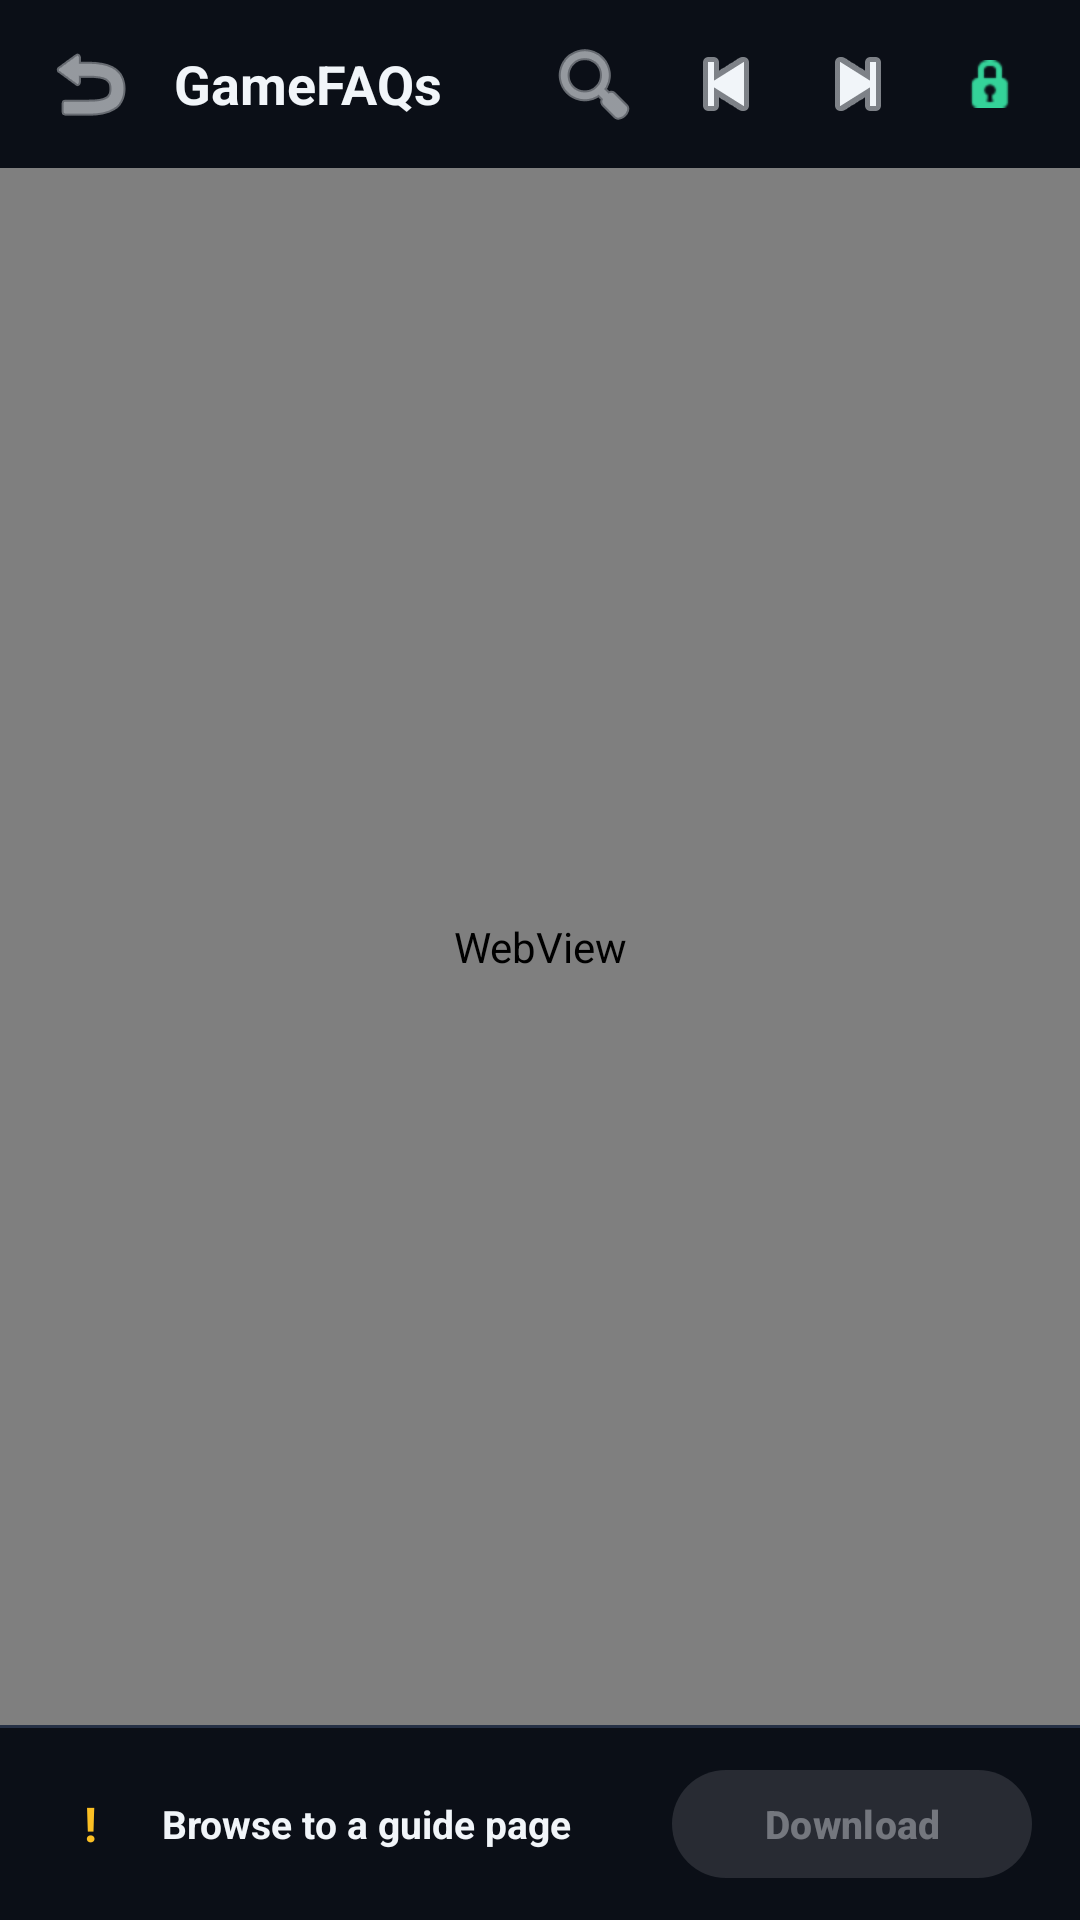

Screen size 1080*1920. Icon name, then its box in pixels as (left=x1, top=y1, right=x2, bottom=y2):
Back: (left=703, top=57, right=749, bottom=111)
Forward: (left=835, top=57, right=881, bottom=111)
Search: (left=558, top=49, right=630, bottom=120)
